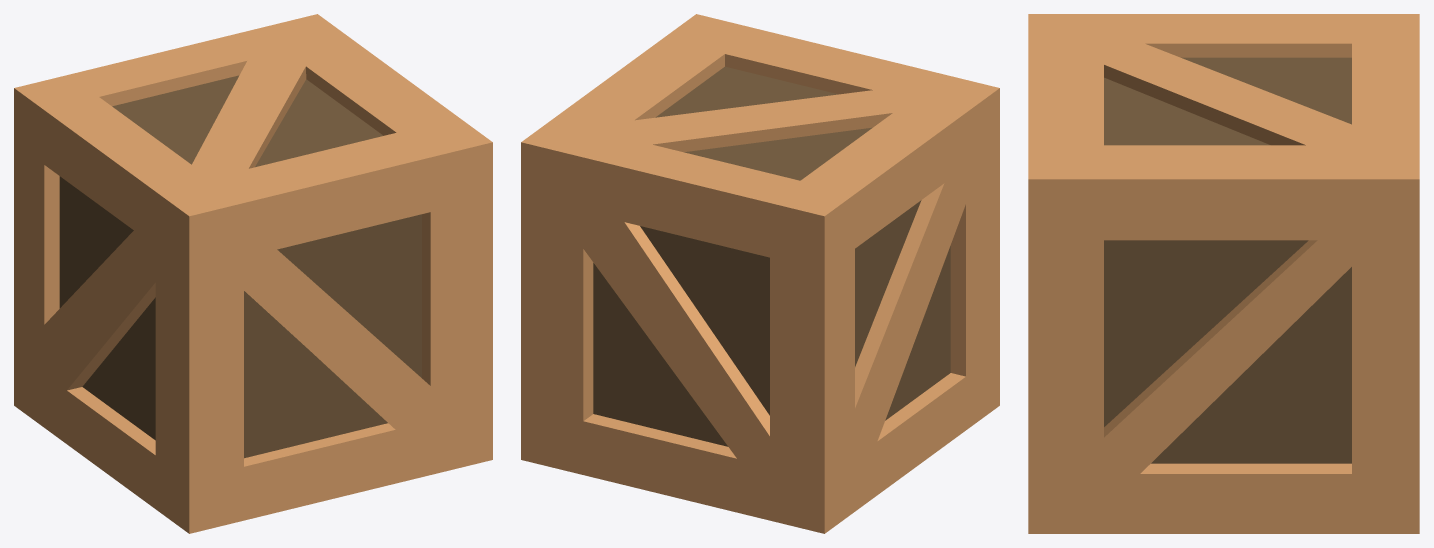
The model's file is caixa.glb.
The picture shows the model from 3 angles, left to right: view 1: azimuth 30°, elevation 25°; view 2: azimuth 150°, elevation 25°; view 3: azimuth 270°, elevation 25°; orthographic projection. The views are drawn at different scales.
Visible parts, largest first — view 1: caixa; view 2: caixa; view 3: caixa.
Part boxes in pixels (x1,y1,x2,y2): caixa: (14,14,492,533); caixa: (521,14,999,533); caixa: (1028,14,1419,533).
Size of the model in its own units: 2 by 2 by 2.
